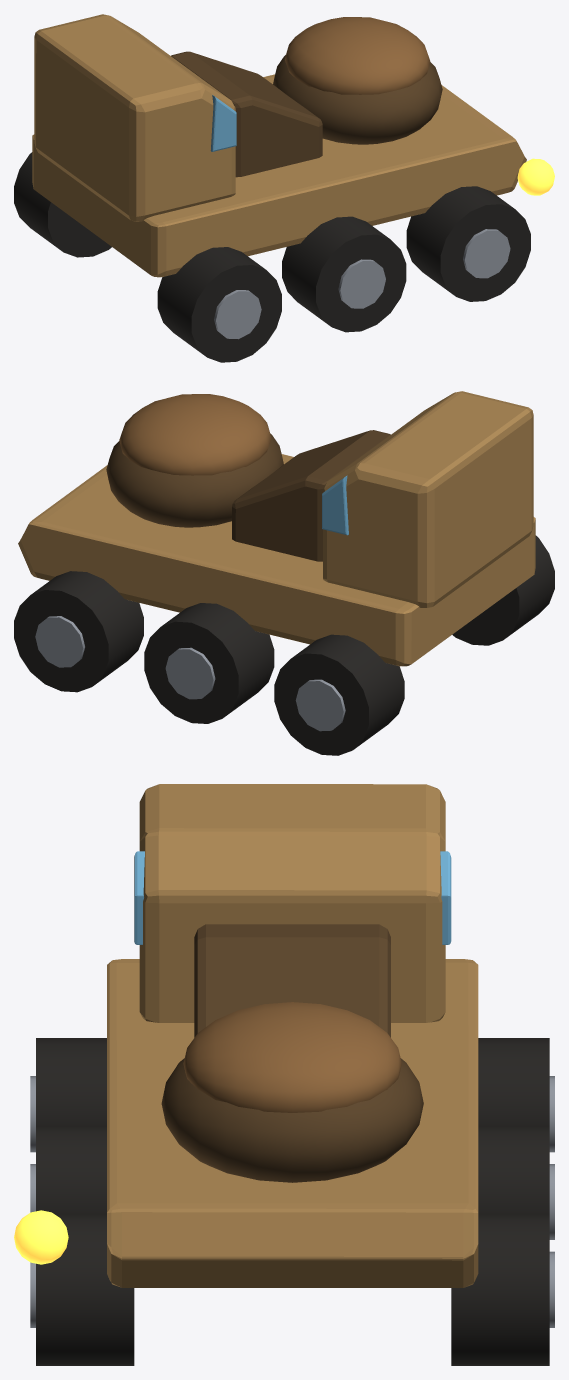
The model's file is dirt_l.glb.
The picture shows the model from 3 angles, top to bottom: view 1: azimuth 30°, elevation 25°; view 2: azimuth 150°, elevation 25°; view 3: azimuth 270°, elevation 25°; orthographic projection. The views are drawn at different scales.
Visible parts, largest first — view 1: deck, cab, dirt, wheel.004, wheel.002, wheel, mount, hopper, wheel.001, hub.004, hub.002, hub (+2 smaller); view 2: deck, cab, dirt, wheel.003, wheel.001, wheel.005, mount, hopper, wheel, hub.005, hub.001, hub.003 (+1 smaller); view 3: deck, cab, dirt, hopper, mount, wheel.005, wheel.004, wheel.003, wheel.001, wheel.002, wheel, lamp (+1 smaller).
Boxes of the visible parts, box(x1,y1,x2,y2) form: deck: box(32, 74, 526, 277); cab: box(34, 14, 235, 221); dirt: box(285, 17, 430, 94); wheel.004: box(406, 186, 530, 301); wheel.002: box(282, 216, 406, 332); wheel: box(157, 247, 281, 362); mount: box(171, 51, 322, 177); hopper: box(273, 55, 442, 144); wheel.001: box(14, 152, 111, 257); hub.004: box(463, 229, 510, 278); hub.002: box(338, 259, 385, 308); hub: box(214, 290, 261, 339); deck: box(18, 454, 535, 666); cab: box(323, 391, 533, 607); dirt: box(119, 394, 271, 475); wheel.003: box(144, 603, 274, 723); wheel.001: box(274, 634, 404, 755); wheel.005: box(14, 571, 143, 692); mount: box(232, 430, 390, 561); hopper: box(106, 433, 283, 527); wheel: box(452, 535, 554, 645); hub.005: box(35, 616, 84, 667); hub.001: box(295, 679, 345, 731); hub.003: box(165, 647, 215, 699); deck: box(107, 959, 478, 1287); cab: box(139, 784, 445, 1022); dirt: box(183, 1002, 401, 1112); hopper: box(161, 1058, 423, 1182); mount: box(194, 924, 390, 1037); wheel.005: box(451, 1213, 549, 1365); wheel.004: box(36, 1213, 134, 1365); wheel.003: box(478, 1125, 549, 1213); wheel.001: box(478, 1038, 549, 1125); wheel.002: box(36, 1125, 106, 1213); wheel: box(36, 1038, 106, 1125); lamp: box(14, 1210, 68, 1264).
Bounding box in the file's own units: 11.7 × 7.2 × 9.9.
